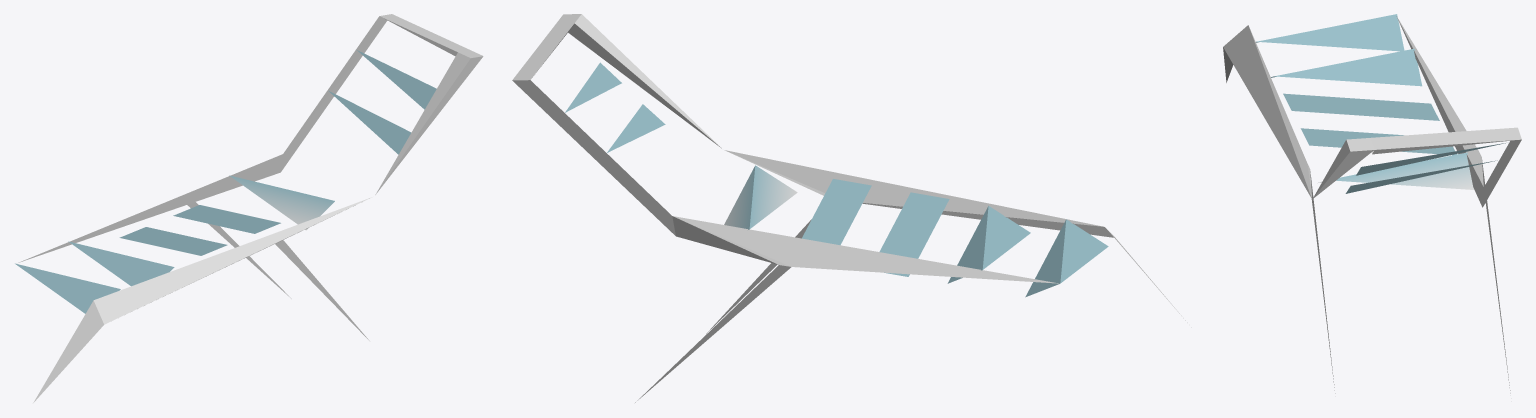
Rendered from bay-sunbed.lod2.glb.
3 renders of one model, left to right at view 1: azimuth 30°, elevation 25°; view 2: azimuth 150°, elevation 25°; view 3: azimuth 270°, elevation 25°, orthographic. The views are drawn at different scales.
Parts seen in each view (by area): view 1: LB2-material; view 2: LB2-material; view 3: LB2-material.
Boxes of the visible parts, left/top/right/bottom form: LB2-material: left=15, top=14, right=483, bottom=402; LB2-material: left=512, top=14, right=1191, bottom=402; LB2-material: left=1223, top=14, right=1521, bottom=393.
Bounding box in the file's own units: 1.76 × 0.889 × 0.724.
